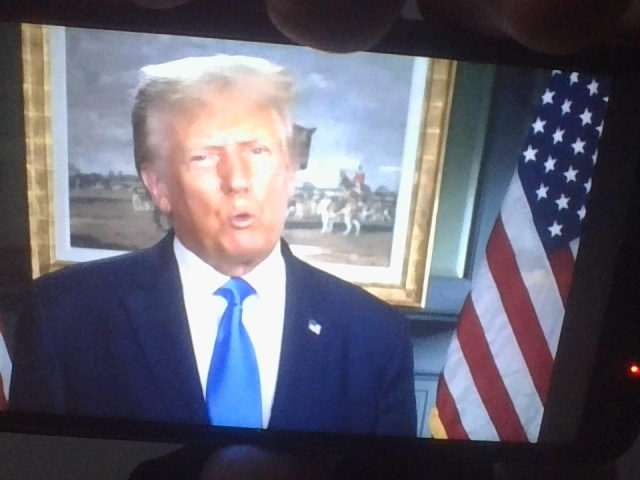fake: (149, 44, 315, 280)
